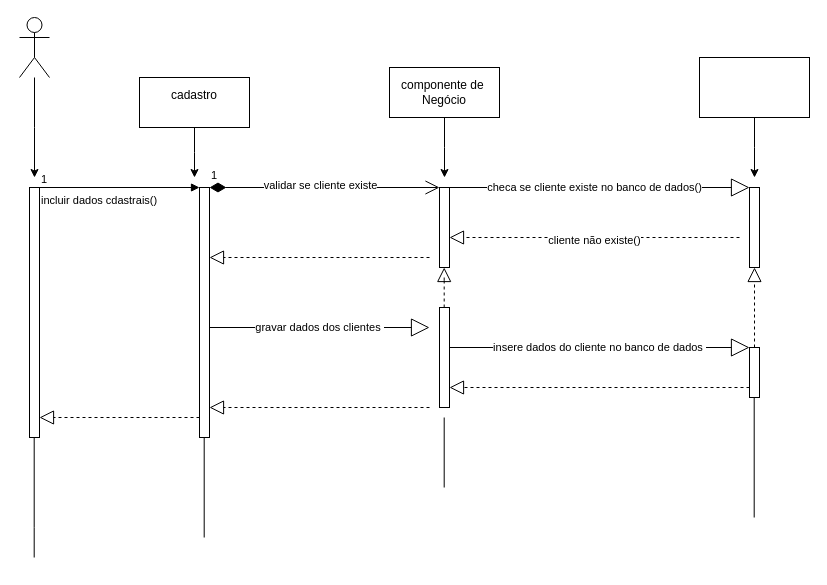
The diagram is 827 pixels wide and 585 high, and some of its shapes have lost their labels. The centre of each missing label's shape, as x and y in pixels:
"banco de dados" belongs at (x=754, y=87).
"cliente" belongs at (x=34, y=47).
